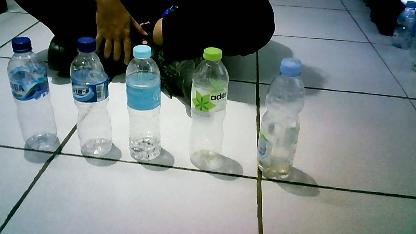Plastic Bottle: (248, 48, 312, 190), (184, 36, 240, 190), (116, 35, 176, 172), (0, 35, 62, 165), (63, 38, 118, 162)
